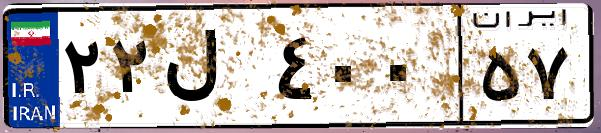0: (385, 28, 445, 110), (330, 28, 385, 110)
2: (57, 26, 110, 100), (110, 28, 158, 98)
4: (270, 28, 330, 110)
5: (475, 38, 525, 113)
7: (525, 38, 570, 115)
ل: (158, 20, 270, 120)
